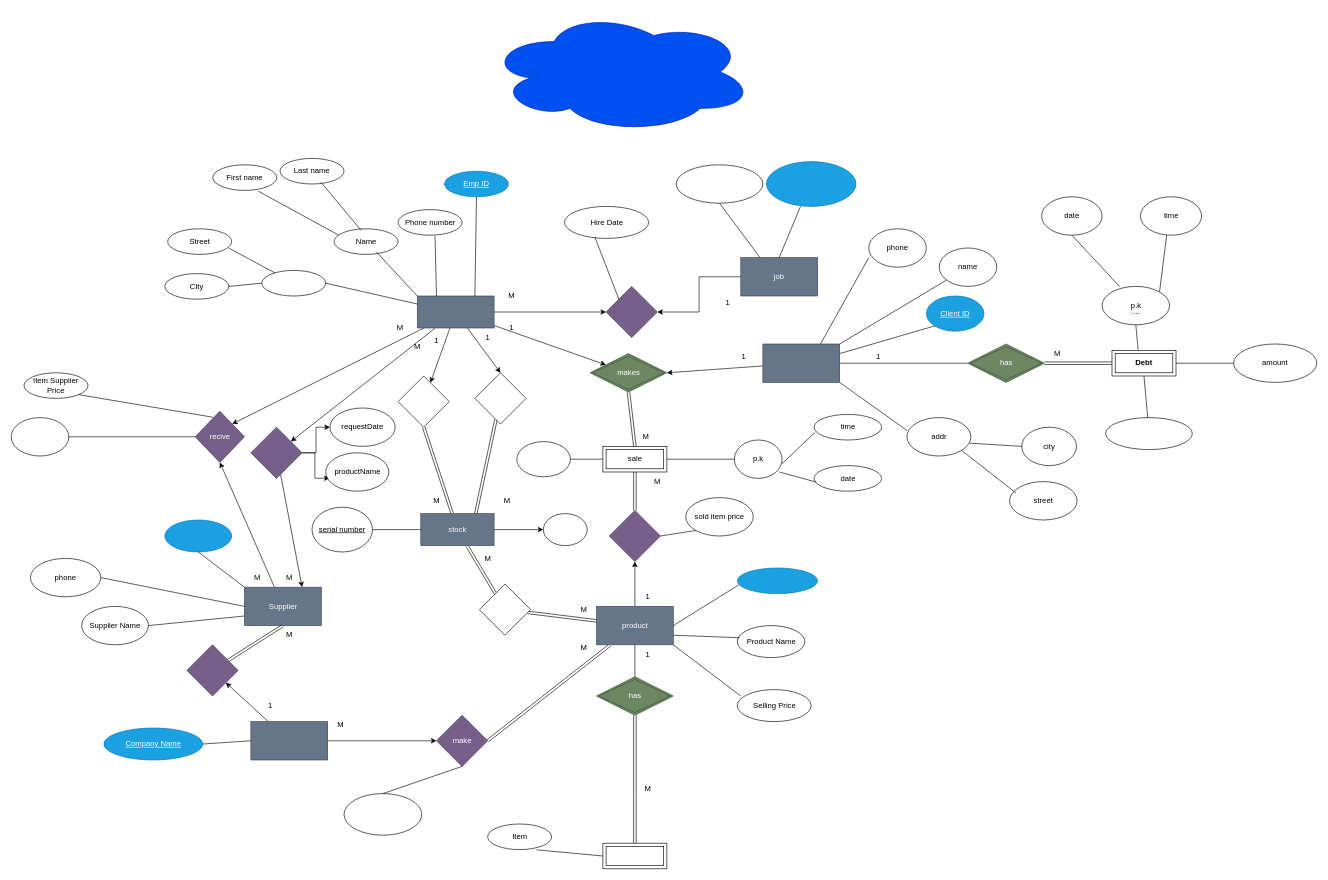
This 1328x880 diagram has some shape labels left out. The centre of each missing label's shape, as x and y in pixels:
Address: point (293, 283)
client: point (801, 362)
compnay: point (289, 740)
contains: point (634, 536)
employee: point (455, 311)
item sale quntity: point (543, 459)
item_type: point (634, 856)
jobName: point (811, 183)
organize: point (500, 398)
paid: point (719, 183)
Product ID: point (777, 580)
provide: point (212, 670)
qutitey: point (382, 814)
request: point (276, 452)
reviveDate: point (40, 436)
sending: point (423, 401)
Sid: point (198, 535)
smile stock: point (620, 72)
status: point (1148, 433)
stock position: point (565, 529)
store: point (505, 609)
works on: point (631, 312)
